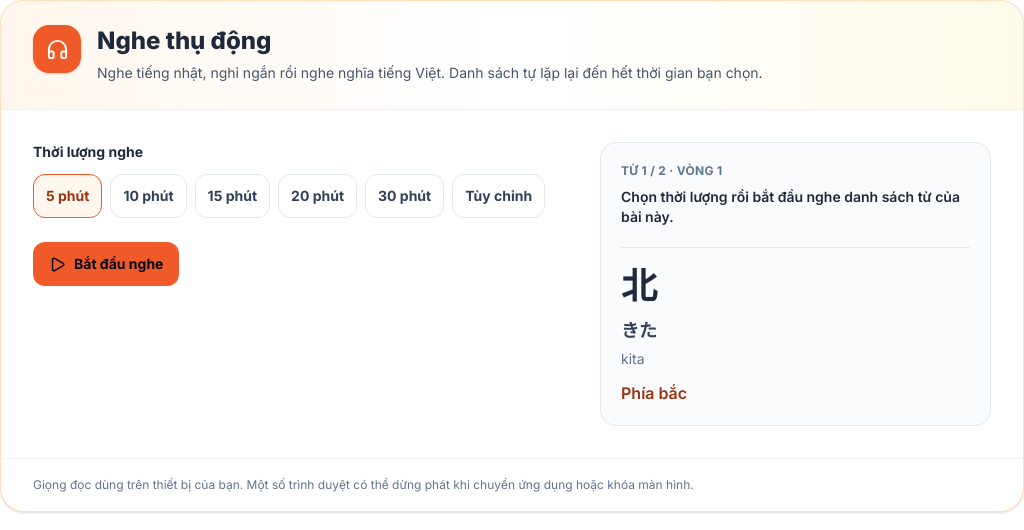
Test: PassiveListeningMode › accepts a custom duration and supports pause, resume, and stop
Click the button "Tùy chỉnh". click: (499, 196)
box: top-left (452, 174), bottom-right (545, 218)
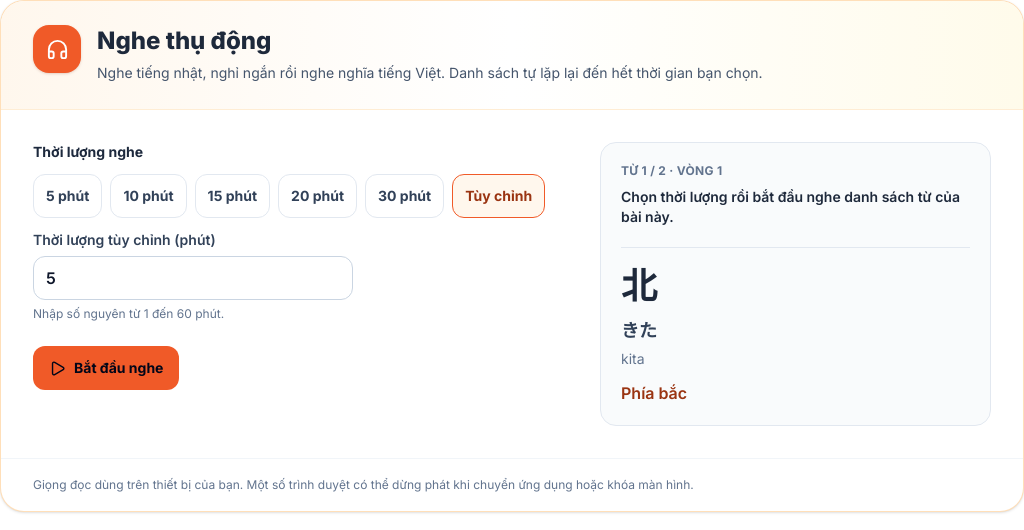
Replace the text in the number field labelled "Thời lượng tùy chỉnh (phút) Nhập số nguyên từ 1 đến 60 phút." with "2". click: (193, 278)
box: top-left (33, 256), bottom-right (353, 300)
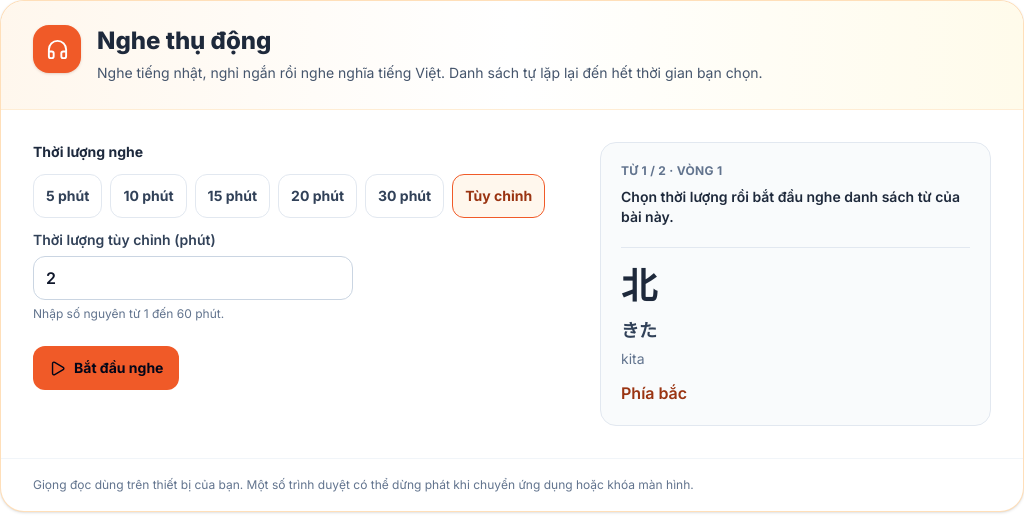
Click the button "Bắt đầu nghe". click: (106, 368)
box: top-left (33, 346), bottom-right (179, 390)
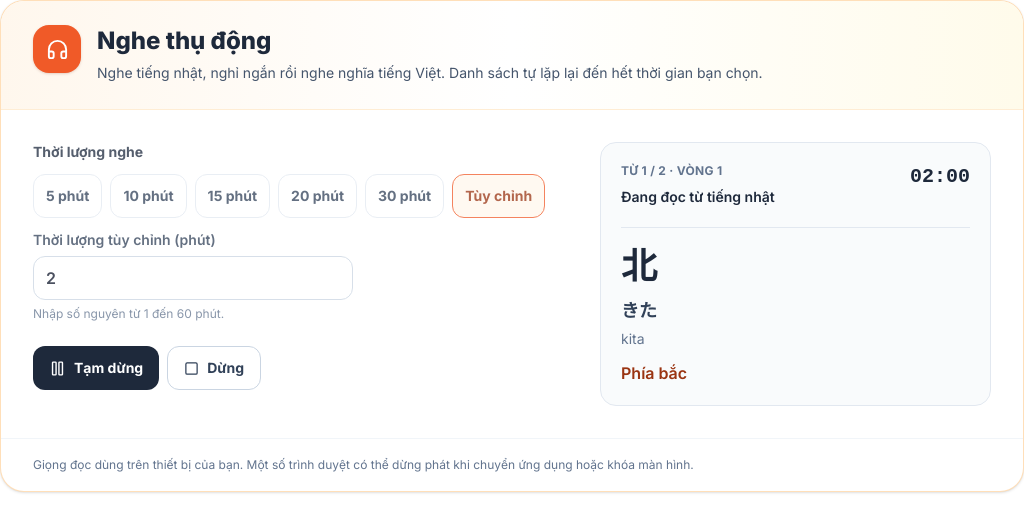
Expected: the text "02:00" is shown, top-left (910, 163), bottom-right (970, 191)
Click the button "Tạm dừng". click: (96, 368)
box: top-left (33, 346), bottom-right (159, 390)
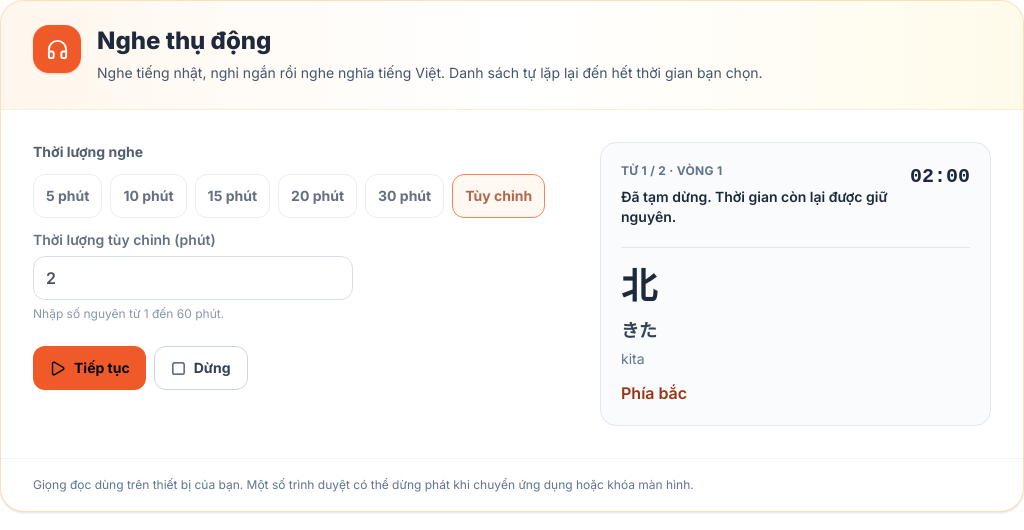
Click the button "Tiếp tục". click: (89, 368)
box: top-left (33, 346), bottom-right (146, 390)
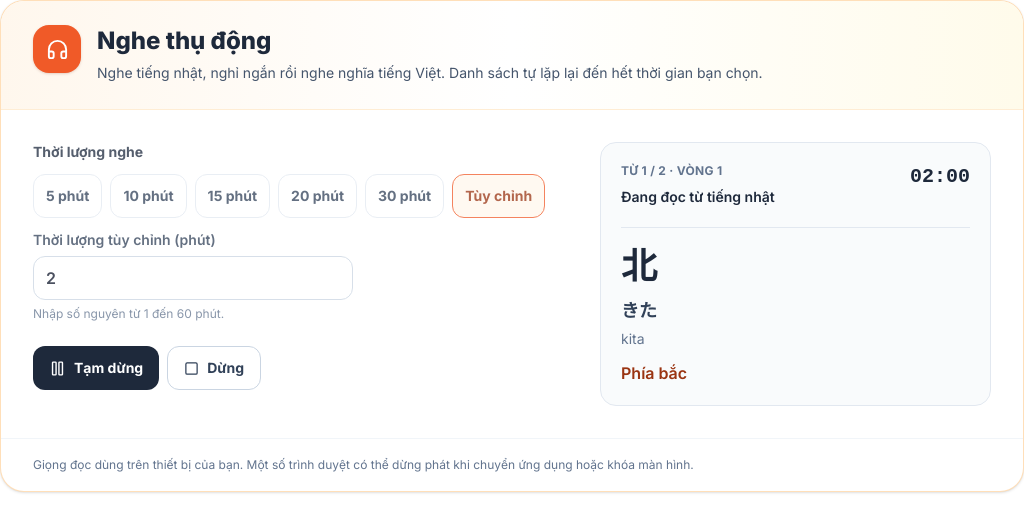
Click the button "Dừng". click: (214, 368)
box: top-left (167, 346), bottom-right (261, 390)
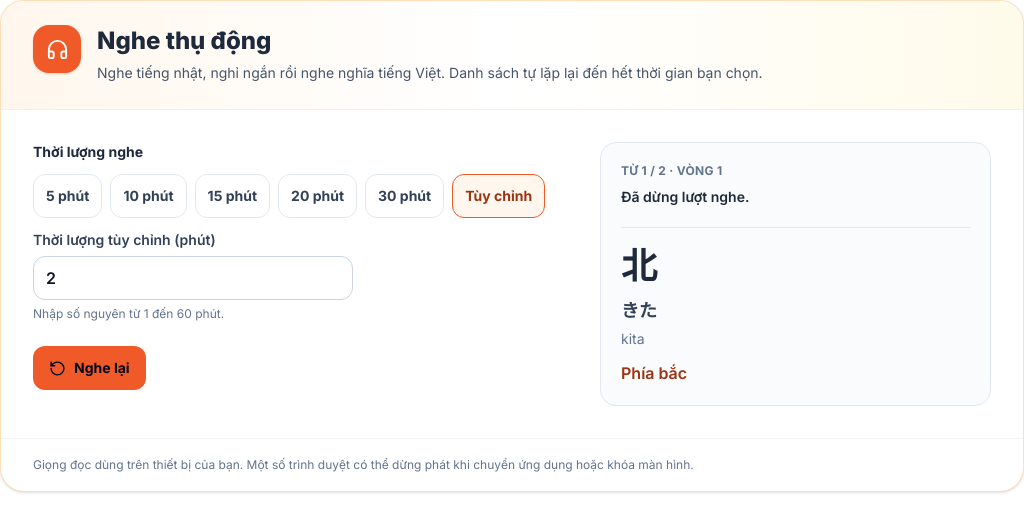
Expected: the button "Nghe lại" is enabled, top-left (33, 346), bottom-right (146, 390)
